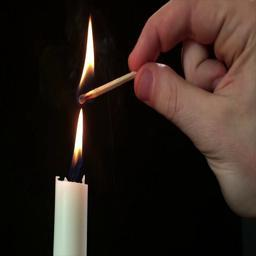fire: (81, 16, 95, 91), (73, 109, 84, 168)
